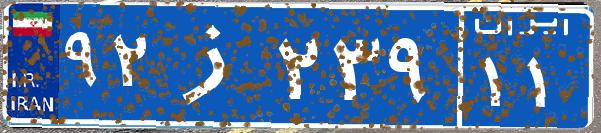1: (475, 38, 525, 113), (525, 38, 570, 115)
2: (273, 28, 330, 110), (110, 28, 158, 105)
3: (330, 28, 385, 110)
9: (385, 28, 445, 110), (57, 26, 110, 107)
ز: (158, 15, 273, 115)
